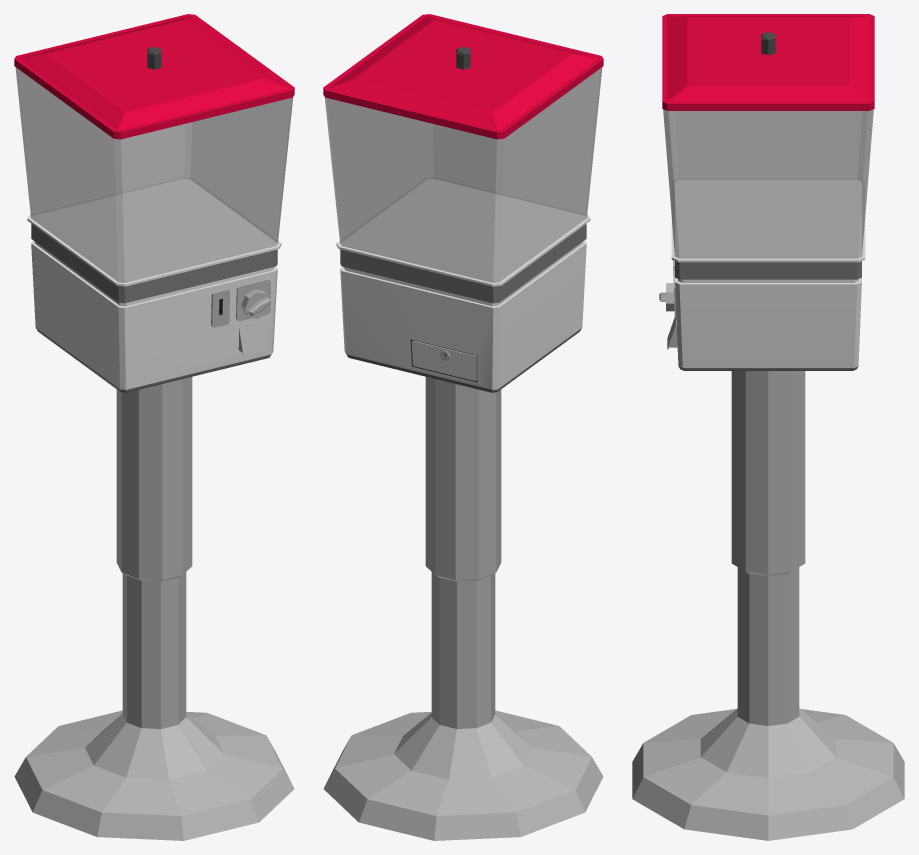
File: VendingMachine.fbx
3 views of the same model, side by side, from view 1: azimuth 30°, elevation 25°; view 2: azimuth 150°, elevation 25°; view 3: azimuth 270°, elevation 25° (orthographic).
Visible parts, largest first — view 1: Main, Flapper, Knob; view 2: Main; view 3: Main.
Part boxes in pixels (x1,y1,x2,y2): Main: (14, 14, 294, 840); Flapper: (239, 323, 265, 355); Knob: (241, 289, 271, 318); Main: (323, 14, 603, 840); Main: (632, 14, 904, 840).
Bounding box in the file's own units: 48.88 × 140 × 46.49.
